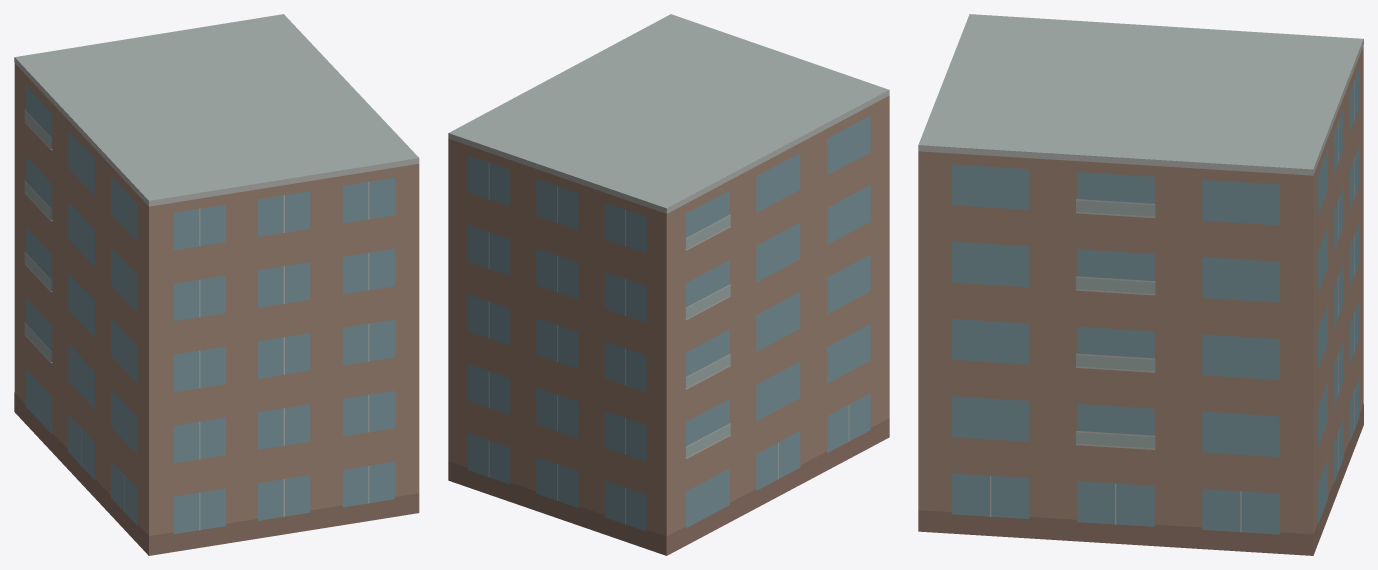
The model's file is survey-upis-32571974.glb.
3 renders of one model, left to right at view 1: azimuth 30°, elevation 25°; view 2: azimuth 150°, elevation 25°; view 3: azimuth 270°, elevation 25°, orthographic. The views are drawn at different scales.
Visible parts, largest first — view 1: survey-upis-32571974.tmp; view 2: survey-upis-32571974.tmp; view 3: survey-upis-32571974.tmp.
Boxes of the visible parts, <box> form: survey-upis-32571974.tmp: <box>14,14,419,555</box>; survey-upis-32571974.tmp: <box>448,14,889,555</box>; survey-upis-32571974.tmp: <box>918,14,1363,555</box>.
Bounding box in the file's own units: 13.17 × 15.25 × 15.94.
